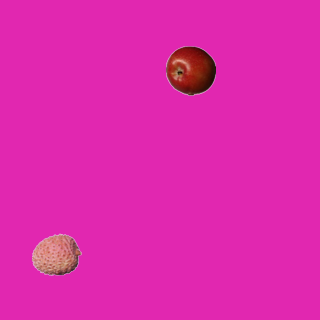Apple Braeburn: (165, 45, 215, 95)
Lychee: (31, 229, 81, 279)
